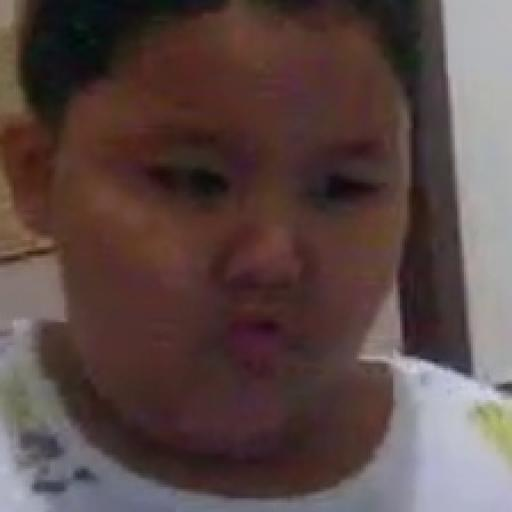Autism: (18, 0, 459, 489)
